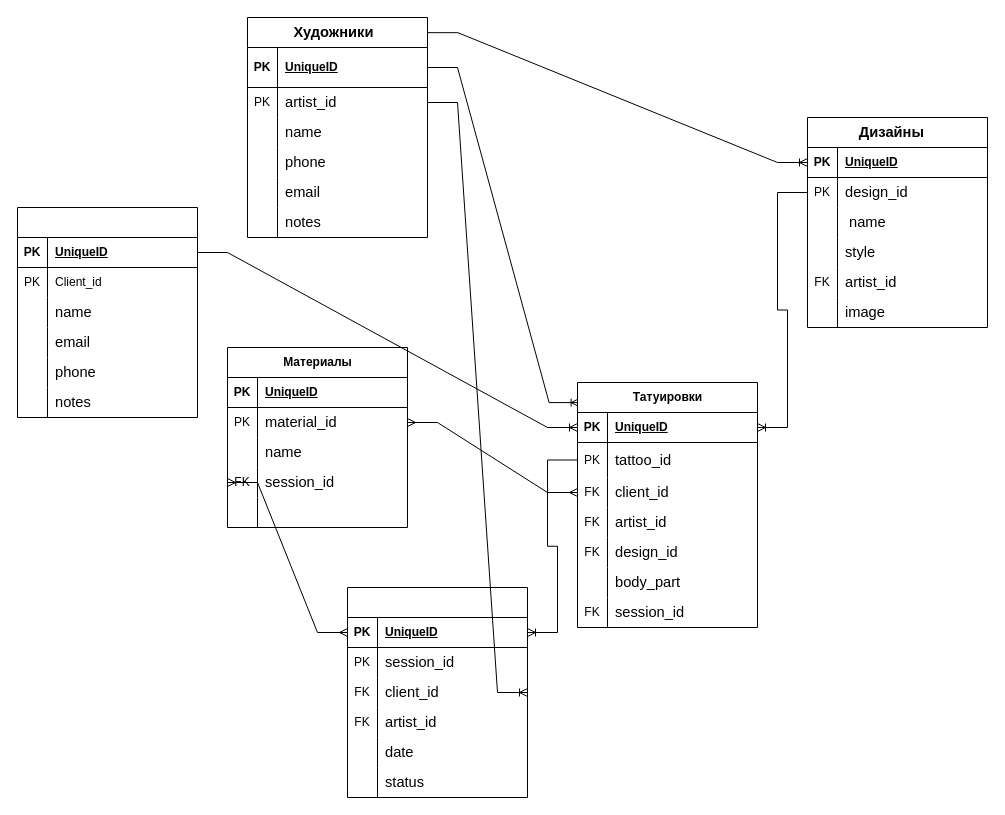
The diagram is 1005 pixels wide and 815 high, and some of its shapes have lost their labels. The shapes that lost their labels are listed below. From the top down, each one's box as (x1, y1, x2, y2) in pixels, then its label:
(16, 206, 198, 418): Клиенты
(346, 586, 528, 798): Сеансы
